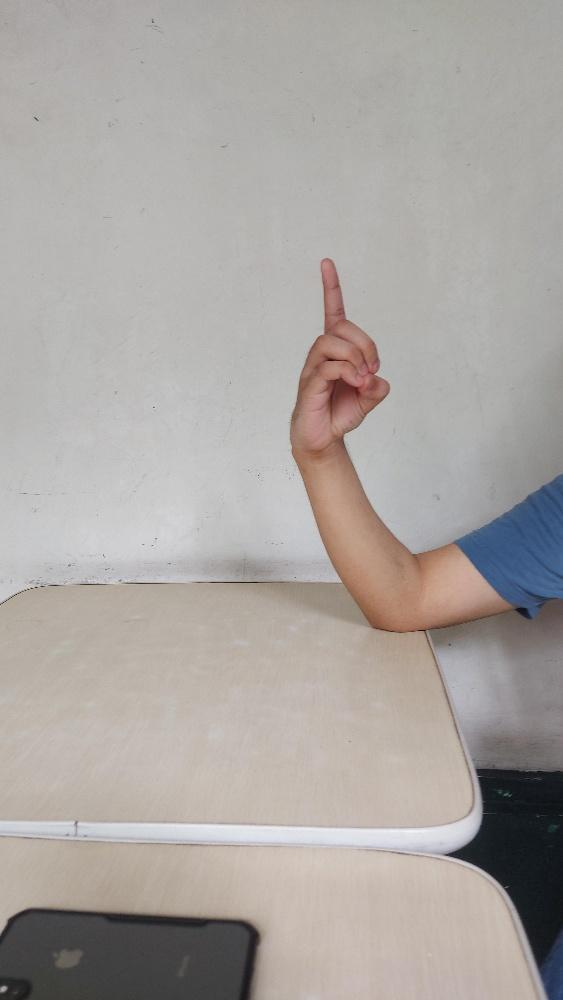d: (289, 257, 389, 449)
